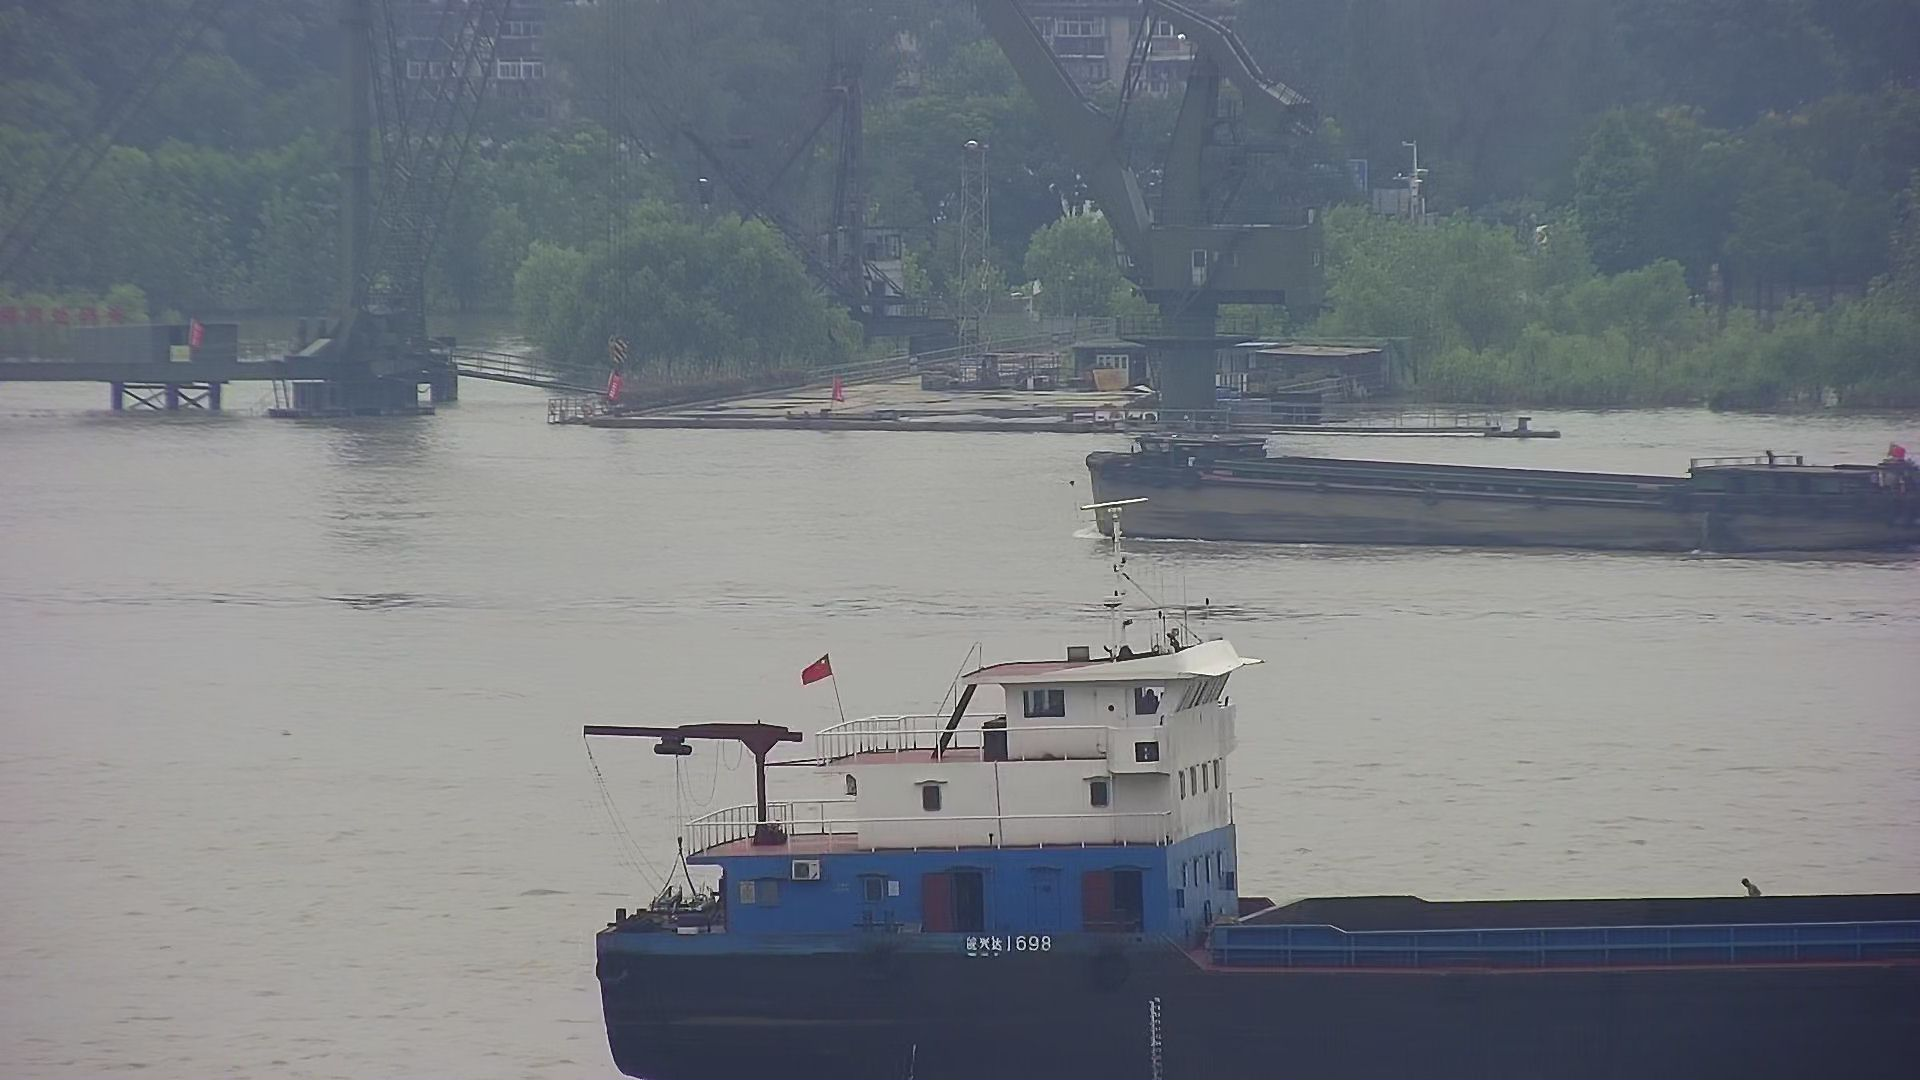platform: (1, 1, 475, 425)
ship: (563, 483, 1920, 1080), (1073, 429, 1920, 578)
